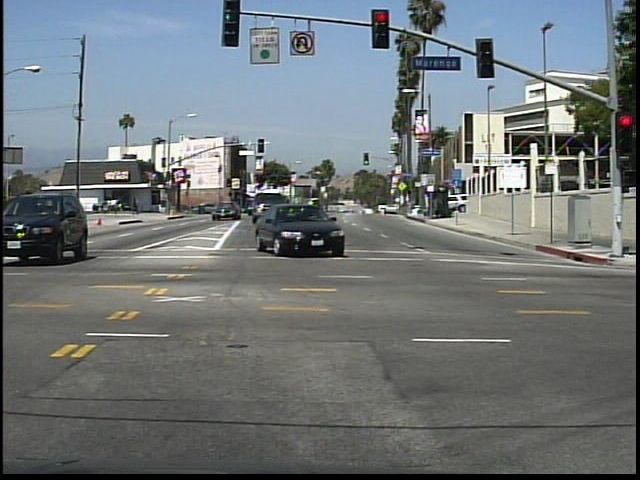person: (131, 195, 143, 219)
